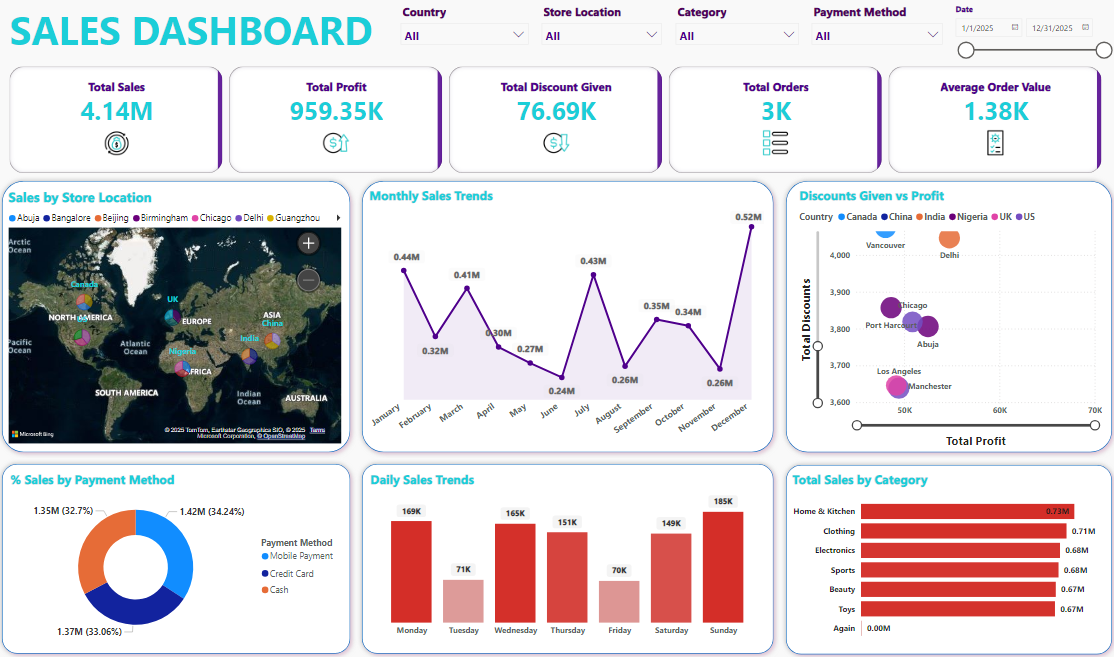

What the dashboard file says about the page in this screenshot:
{"tool":"powerbi","page":{"name":"Page 1","canvas":[1700,1000],"ordinal":0},"visuals":[{"type":"shape","box":[0,265.5,534.5,429.3],"z":0},{"type":"cardVisual","fields":{"Data":["public Sales Data.Total Sales","public Sales Data.Total Profit","public Sales Data.Total Discount Given","public Sales Data.Total Orders","public Sales Data.Average Order Value"]},"box":[15.5,94.8,1669,172.4],"z":1000},{"type":"textbox","box":[0,0,590.6,95.3],"z":2000},{"type":"slicer","fields":{"Values":["public Sales Data.Country"]},"box":[603.4,0,213.8,94.8],"z":3000},{"type":"slicer","fields":{"Values":["public Sales Data.Store Location"]},"box":[817.2,0,201.7,94.8],"z":4000},{"type":"slicer","fields":{"Values":["public Sales Data.Category"]},"box":[1019,0,206.9,94.8],"z":5000},{"type":"slicer","fields":{"Values":["public Sales Data.Date"]},"box":[1441.4,0,258.6,94.8],"z":6000},{"type":"slicer","fields":{"Values":["public Sales Data.Payment Method"]},"box":[1225.9,0,219,94.8],"z":7000},{"type":"map","title":"Sales by Store Location","fields":{"Series":["public Sales Data.Store Location"],"Size":["public Sales Data.Total Sales"],"Category":["public Sales Data.Country"]},"box":[13.8,282.8,505.2,394.8],"z":8000},{"type":"shape","box":[534.5,265.5,653.4,429.3],"z":9000},{"type":"areaChart","title":"Monthly Sales Trends","fields":{"Category":["public Sales Data.Month Name"],"Y":["public Sales Data.Total Sales"]},"box":[551.7,282.8,617.2,394.8],"z":10000},{"type":"shape","box":[534.5,694.8,653.4,305.2],"z":11000},{"type":"columnChart","title":"Daily Sales Trends","fields":{"Category":["public Sales Data.Day Name"],"Y":["public Sales Data.Total Profit"]},"box":[551.7,713.8,617.2,260.3],"z":12000},{"type":"shape","box":[0,694.8,534.5,305.2],"z":13000},{"type":"donutChart","title":"% Sales by Payment Method","fields":{"Category":["public Sales Data.Payment Method"],"Y":["public Sales Data.Total Sales"]},"box":[27.6,713.8,479.3,267.2],"z":14000},{"type":"shape","box":[1187.9,265.5,512.1,429.3],"z":15000},{"type":"scatterChart","title":"Discounts Given vs Profit","fields":{"X":["public Sales Data.Total Profit"],"Category":["public Sales Data.Store Location"],"Y":["public Sales Data.Total Discounts"],"Series":["public Sales Data.Country"],"Size":["public Sales Data.Total Orders"]},"box":[1212.1,282.8,469,394.8],"z":16000},{"type":"shape","box":[1187.9,694.8,512.1,305.2],"z":17000},{"type":"barChart","fields":{"Category":["public Sales Data.Category"],"Y":["public Sales Data.Total Sales"]},"box":[1201.7,713.8,479.3,267.2],"z":18000}]}

Visuals, with their boxes in screenshot pixels (x1, y1, x2, y2), scaled from the page's 1700x1000 canvas onto the 1114x657 screenshot:
shape: BBox(0, 174, 350, 456)
cardVisual - public Sales Data.Total Sales x public Sales Data.Total Profit: BBox(10, 62, 1104, 176)
textbox: BBox(0, 0, 387, 63)
slicer - public Sales Data.Country: BBox(395, 0, 536, 62)
slicer - public Sales Data.Store Location: BBox(536, 0, 668, 62)
slicer - public Sales Data.Category: BBox(668, 0, 803, 62)
slicer - public Sales Data.Date: BBox(945, 0, 1113, 62)
slicer - public Sales Data.Payment Method: BBox(803, 0, 947, 62)
"Sales by Store Location" map: BBox(9, 186, 340, 445)
shape: BBox(350, 174, 778, 456)
"Monthly Sales Trends" areaChart: BBox(362, 186, 766, 445)
shape: BBox(350, 456, 778, 656)
"Daily Sales Trends" columnChart: BBox(362, 469, 766, 640)
shape: BBox(0, 456, 350, 656)
"% Sales by Payment Method" donutChart: BBox(18, 469, 332, 645)
shape: BBox(778, 174, 1113, 456)
"Discounts Given vs Profit" scatterChart: BBox(794, 186, 1102, 445)
shape: BBox(778, 456, 1113, 656)
barChart - public Sales Data.Category x public Sales Data.Total Sales: BBox(787, 469, 1102, 645)
